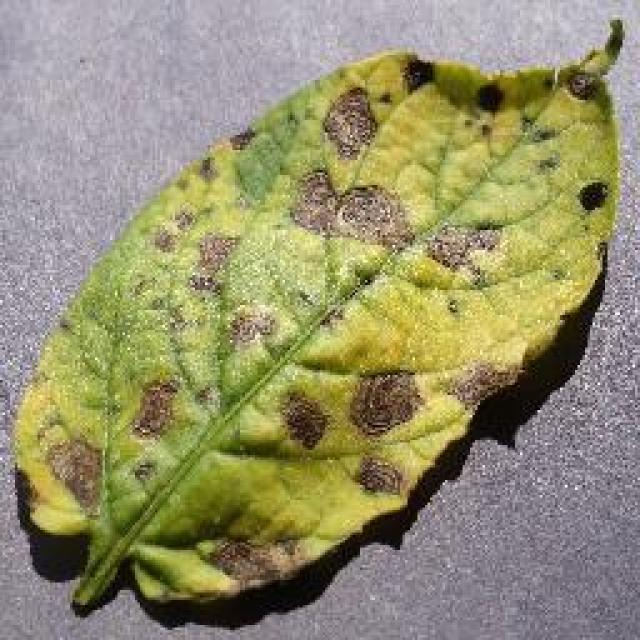early_blight: (8, 15, 630, 617)
